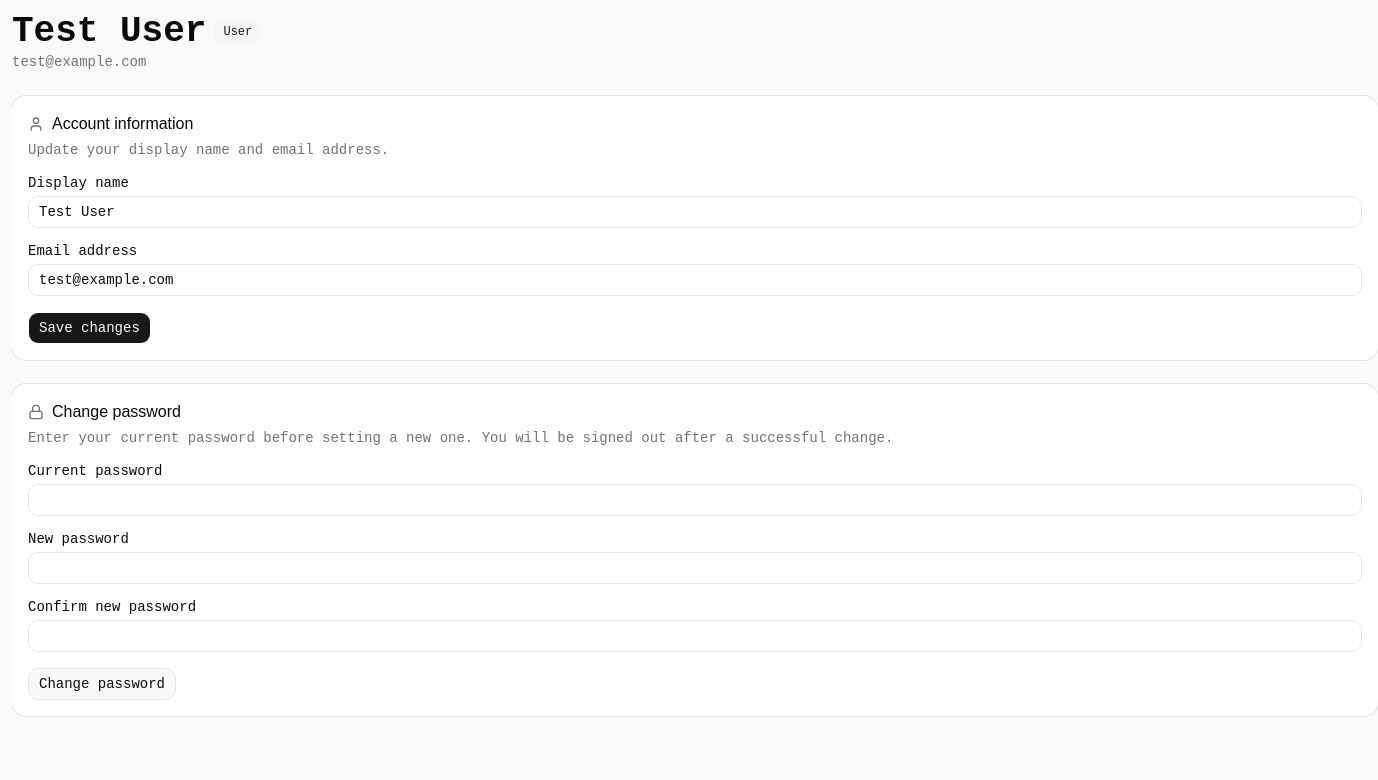
Scenario: SettingsProfile - Password Change Flow › redirects to /login after a successful password change (delayed, not synchronous)
Expected: the heading "Test User" is shown, top-left (12, 12), bottom-right (206, 52)
Type "oldpass123" into the password field labelled "Current password" at (695, 500), box top-left (28, 484), bottom-right (1362, 516)
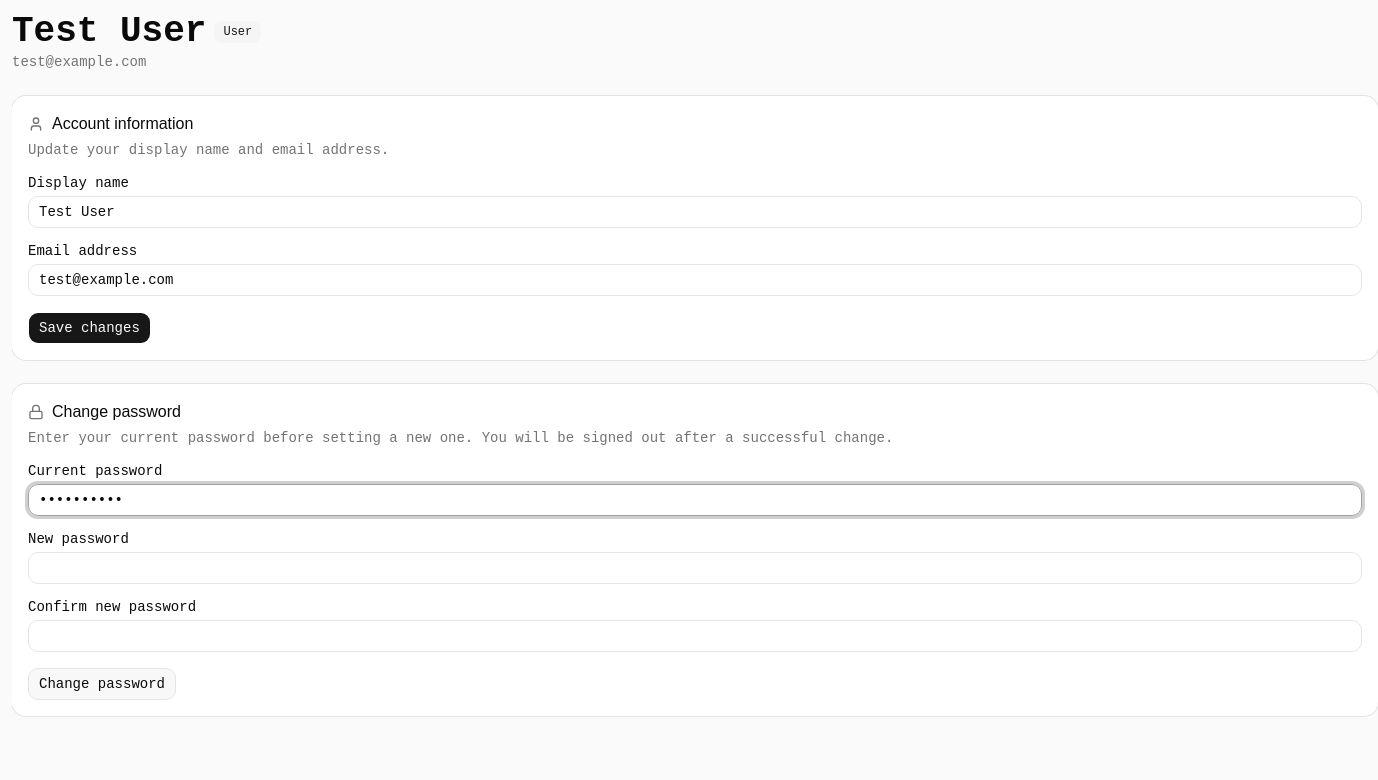
Type "newpass123" into the password field labelled "New password" at (695, 568), box top-left (28, 552), bottom-right (1362, 584)
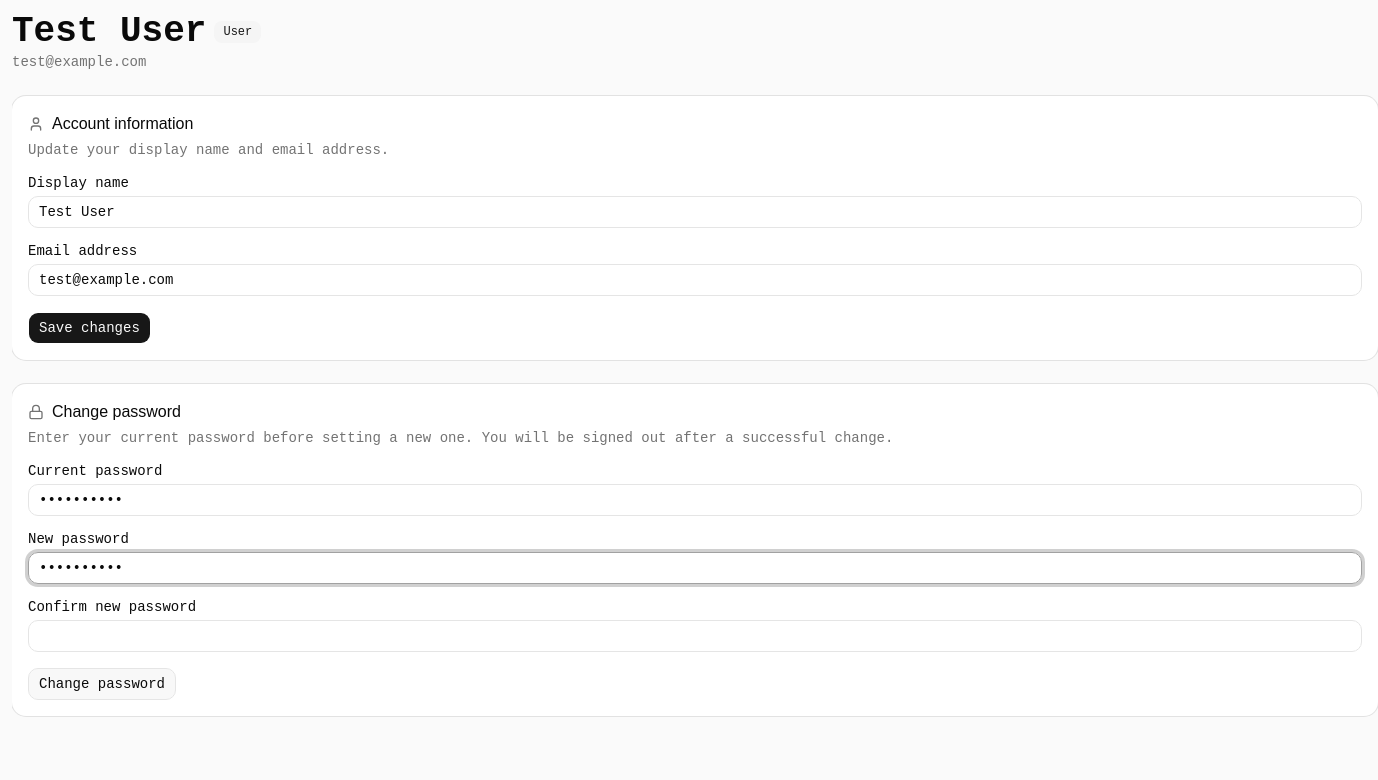
Type "newpass123" into the password field labelled "Confirm new password" at (695, 636), box top-left (28, 620), bottom-right (1362, 652)
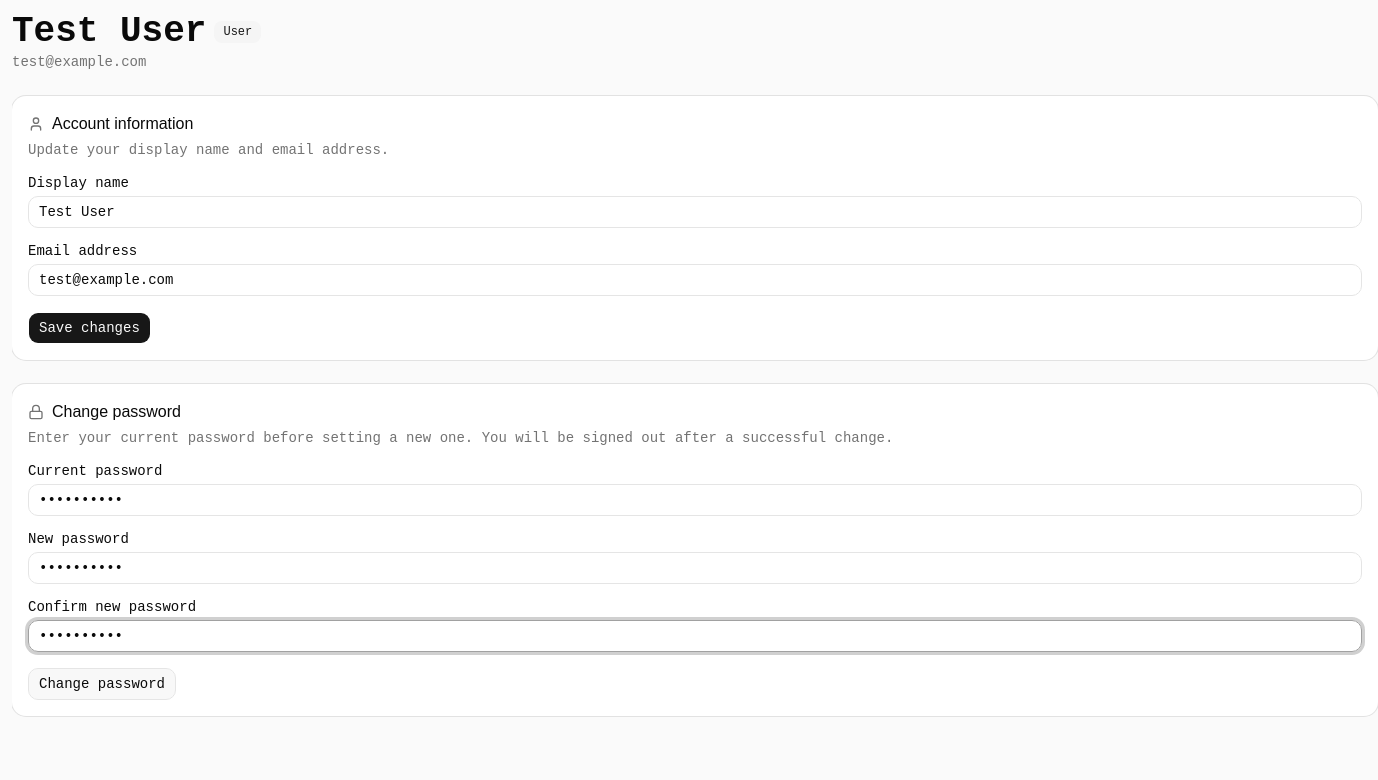
Click the button "Change password" at (102, 684), box top-left (28, 668), bottom-right (176, 700)
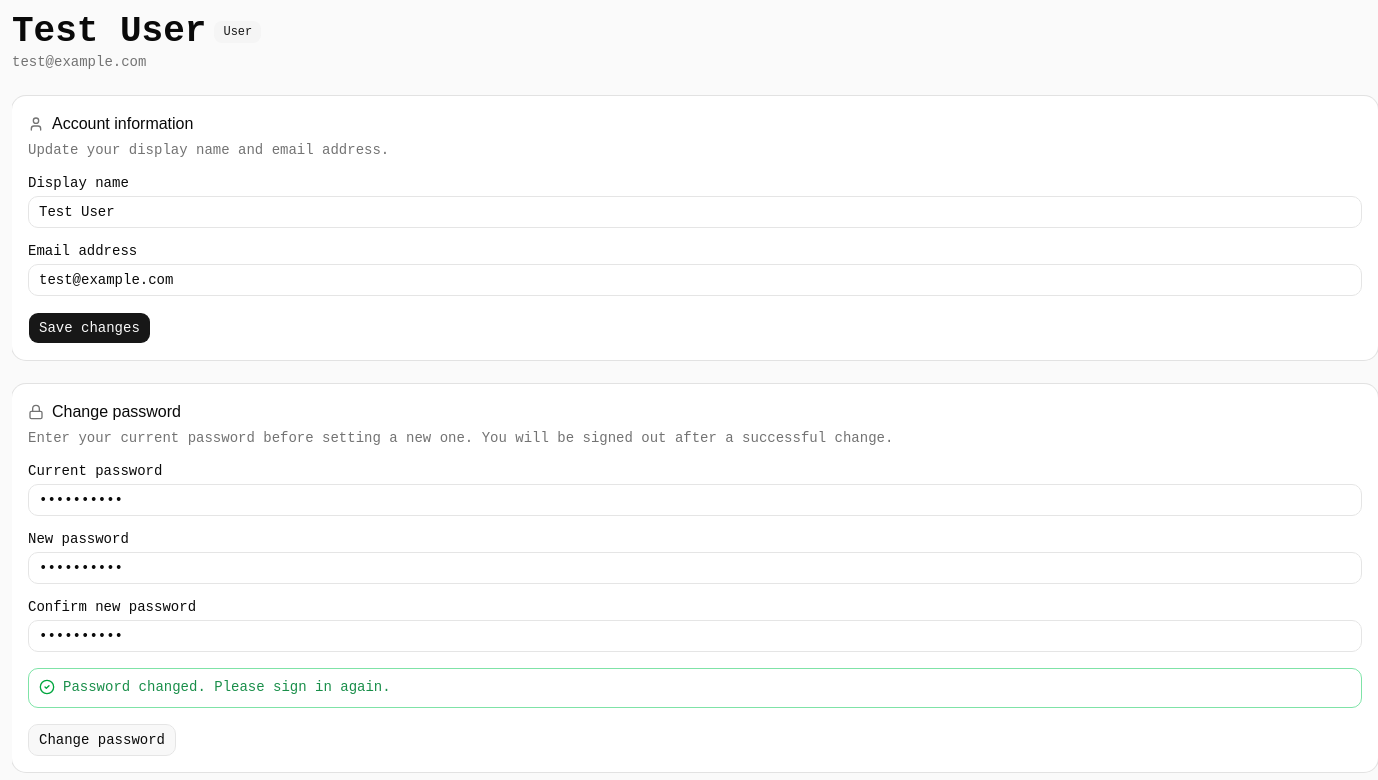
Result: the text "Password changed. Please sign in again." is shown at top-left (63, 679), bottom-right (391, 695)
